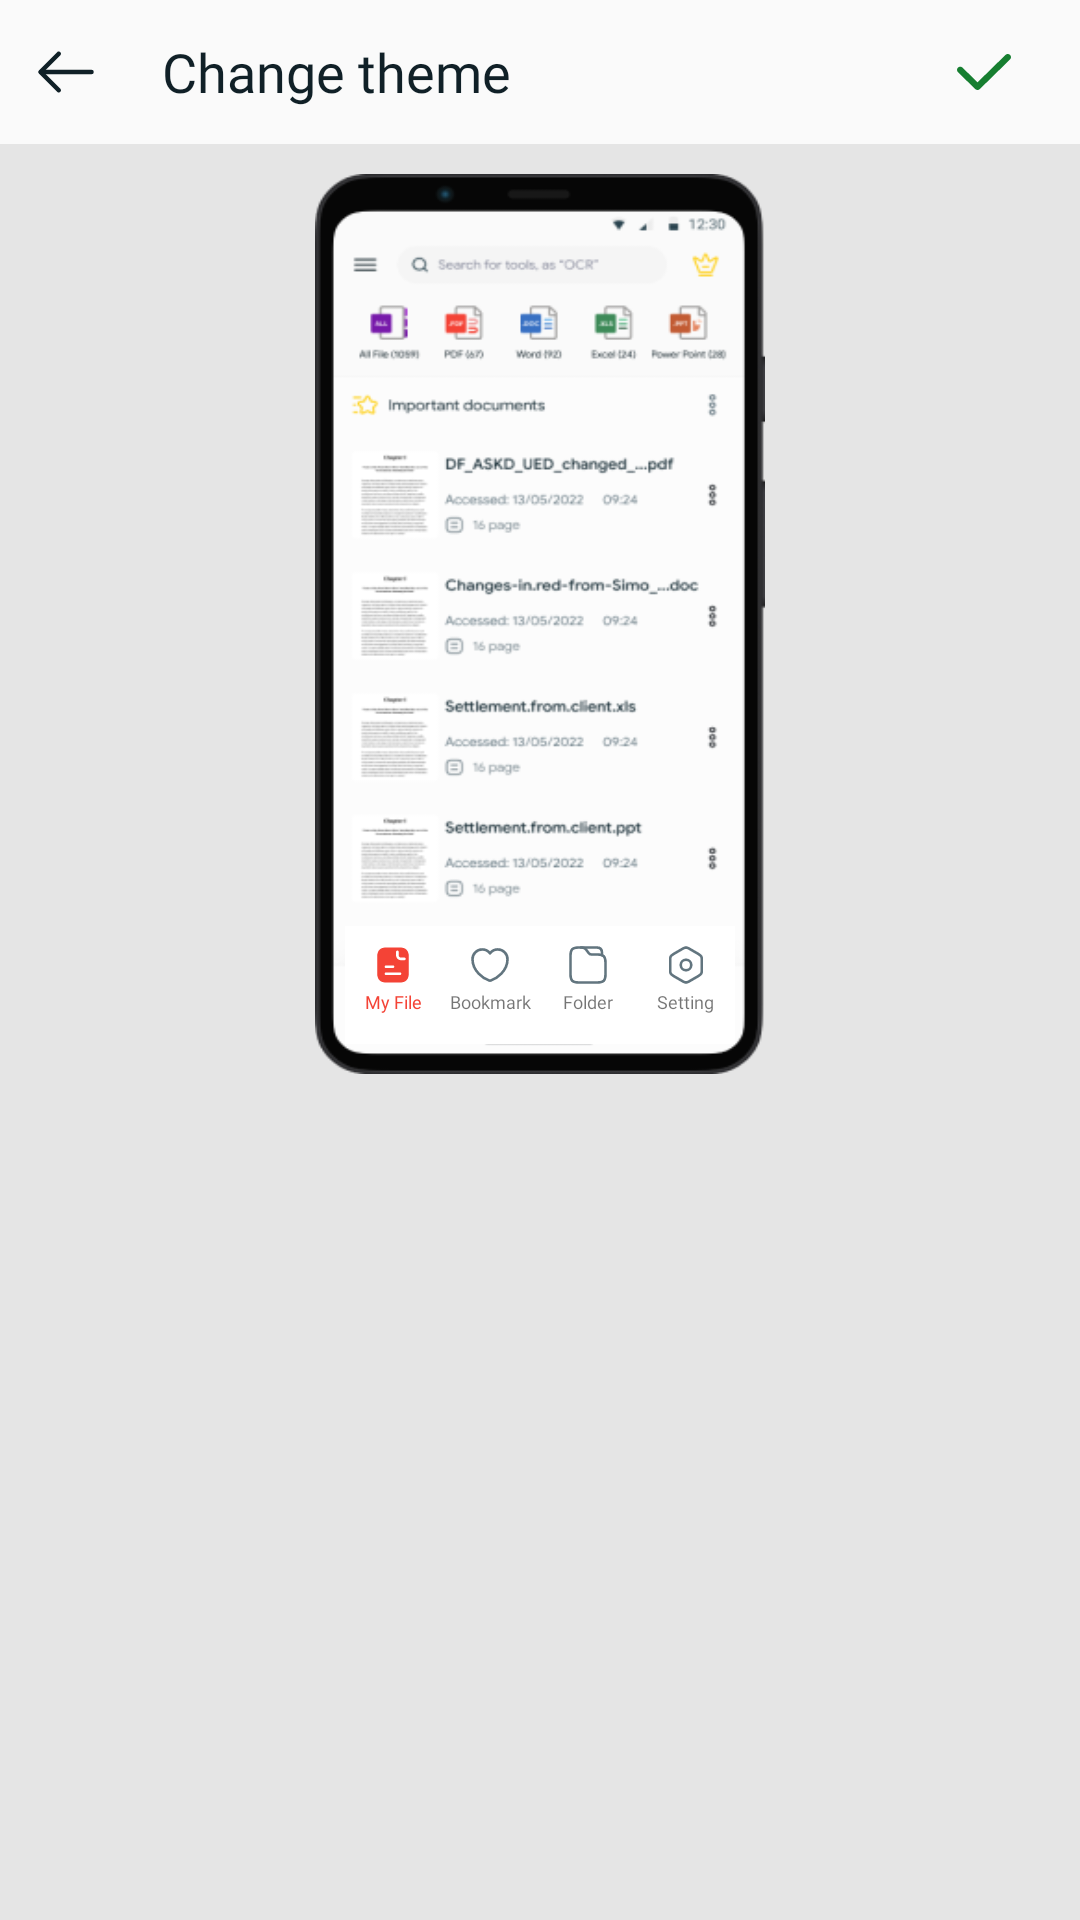

Locate icon controls on the screen. Image size 1080px x 1920px, boxes as (x1, y1, x2, y2).
back all: (38, 51, 94, 93)
checked: (957, 54, 1011, 90)
